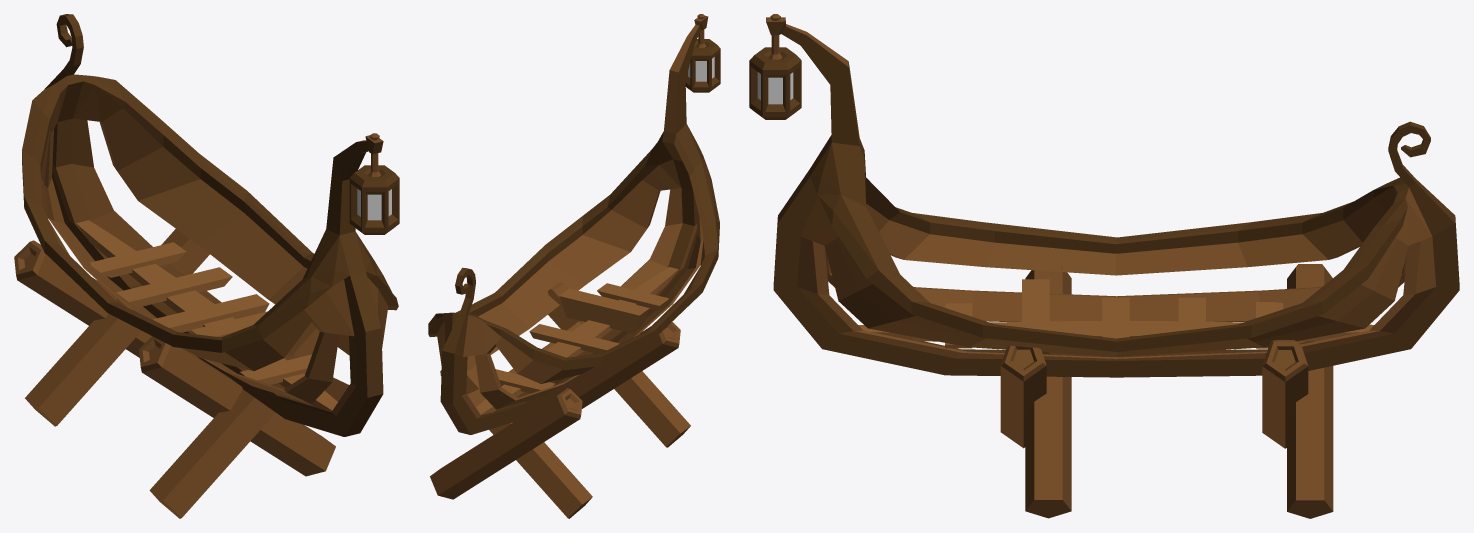
Rendered from G_Boatyard.fbx.
3 views of the same model, side by side, from view 1: azimuth 30°, elevation 25°; view 2: azimuth 150°, elevation 25°; view 3: azimuth 270°, elevation 25° (orthographic). The views are drawn at different scales.
Parts seen in each view (by area): view 1: G_Boatyard; view 2: G_Boatyard; view 3: G_Boatyard.
Boxes of the visible parts, x1,y1,x2,y2 form: G_Boatyard: (14, 14, 399, 518); G_Boatyard: (428, 14, 720, 518); G_Boatyard: (749, 14, 1459, 518).
Size of the model in its own units: 176 by 372 by 508.
